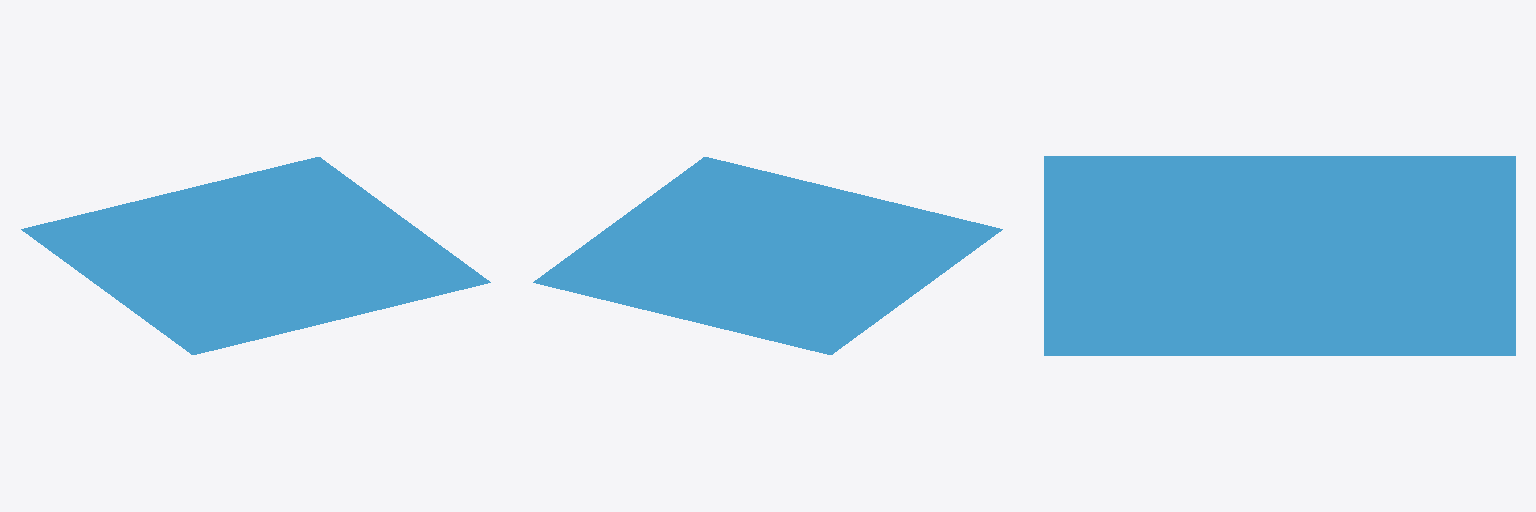
robot.urdf — plane_0-5:
<?xml version="1.0"?>
<robot name="plane_0-5">

  <link name="world" />

  <link name="base_link">
    <visual>
      <geometry>
        <mesh filename="package://gl_depth_sim/meshes/plane_0-5.stl"/>
      </geometry>
    </visual>
  </link>

  <joint name="world_to_base" type="fixed">
    <parent link="world"/>
    <child link="base_link"/>
  </joint>

  <link name="camera" />
  <joint name="world_to_camera" type="fixed">
    <parent link="world"/>
    <child link="camera"/>
  </joint>

</robot>

--- Facts derived from the render (not from the file) ---
The picture shows the robot from 3 angles, left to right: view 1: azimuth 30°, elevation 25°; view 2: azimuth 150°, elevation 25°; view 3: azimuth 270°, elevation 25°; orthographic projection.
Robot: plane_0-5 — 3 links, 2 joints (2 fixed); root link world; default pose: every joint at zero.
Links seen in each view (by area): view 1: base_link; view 2: base_link; view 3: base_link.
Boxes of the visible links, x1,y1,x2,y2 form: base_link: [21, 157, 490, 354]; base_link: [533, 157, 1002, 354]; base_link: [1044, 156, 1515, 355].
Bounding box of the posed robot: 1 × 1 × 0 m (x, y, z).
Meshes: 1 distinct files referenced, 1 mesh visuals loaded (1 binary STL).
